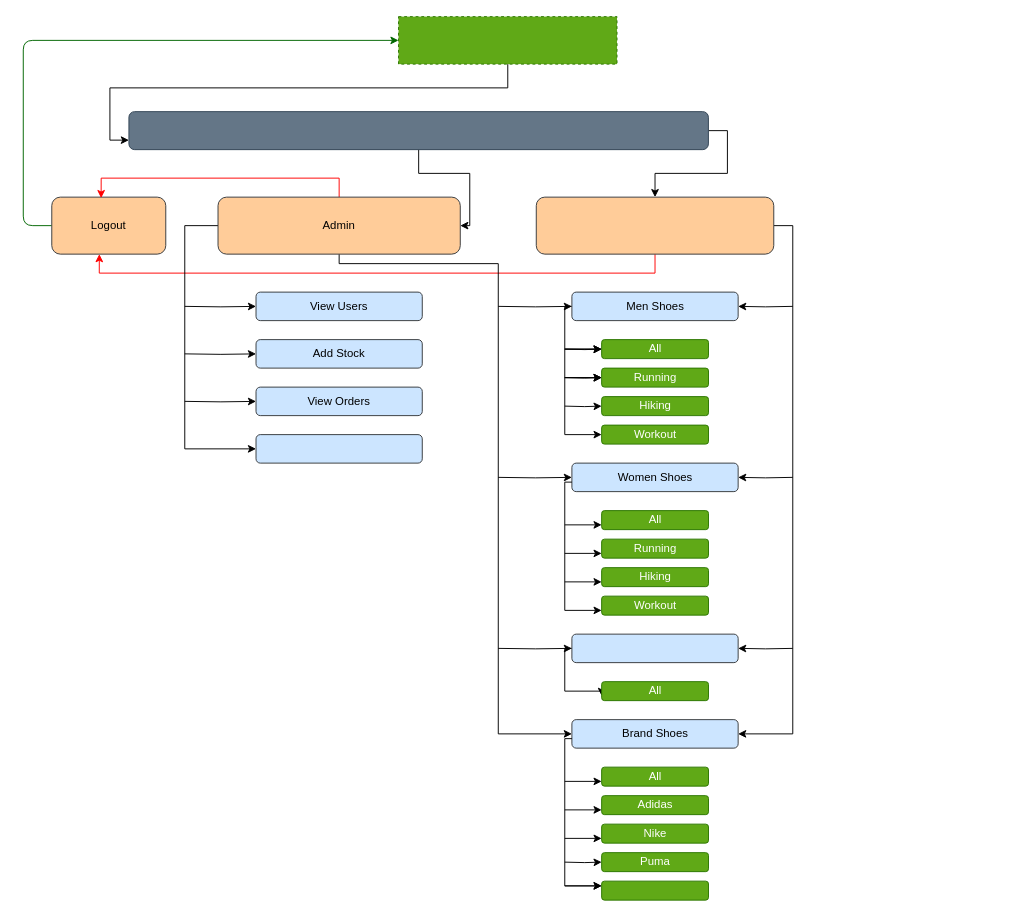
Some shapes in this 1017 by 917 pixel diagram are drawn without their labels. The shapes that lost their labels are listed below. From the top down, each one's centre as x and y in pixels, then its label:
pixel 507 40: Home Page (Sports Shoes)
pixel 418 130: Login
pixel 654 225: User
pixel 338 448: View Stock
pixel 654 648: Kids Shoes
pixel 655 890: Reebok
